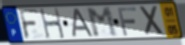A: (70, 8, 95, 38)
F: (18, 8, 40, 41), (116, 6, 138, 37)
H: (39, 7, 67, 41)
M: (85, 6, 120, 39)
X: (138, 5, 166, 37)
